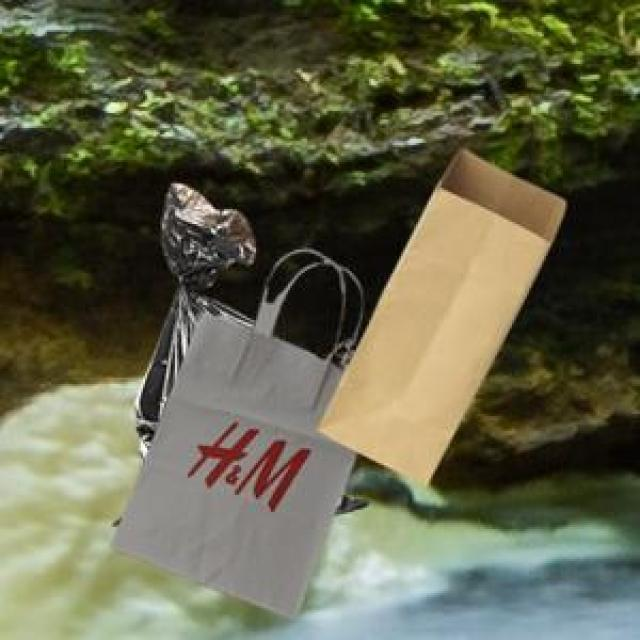miscellaneous trash: (132, 179, 365, 510)
paper: (107, 254, 354, 617), (314, 145, 561, 482)
